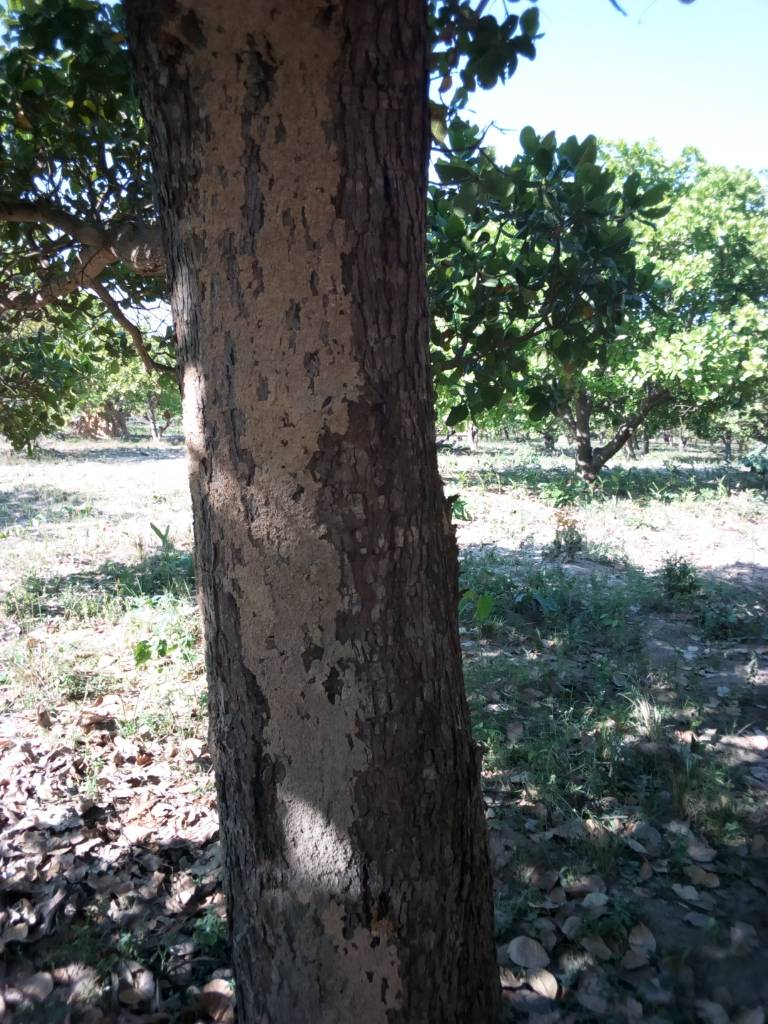Termites: (208, 7, 416, 1014)
